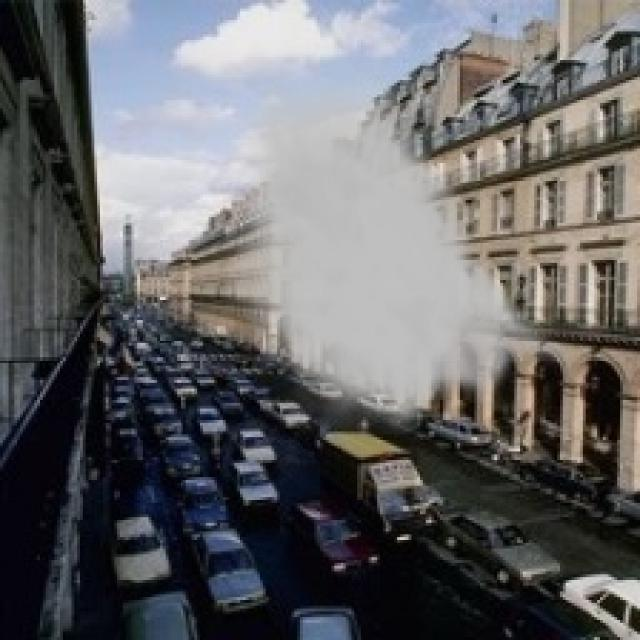smoke: (226, 57, 583, 443)
